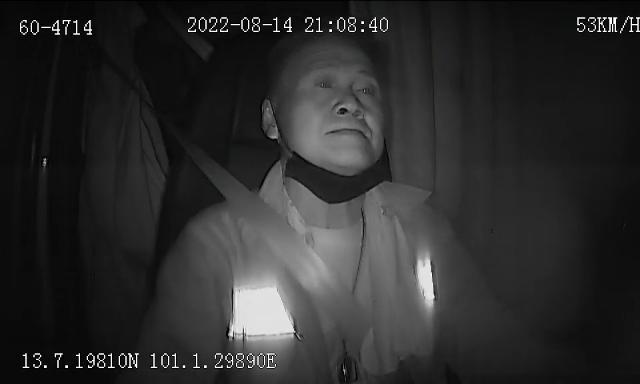SafeDriving: (348, 73, 384, 104), (308, 68, 342, 97)
Seatbelt: (183, 144, 374, 366)
